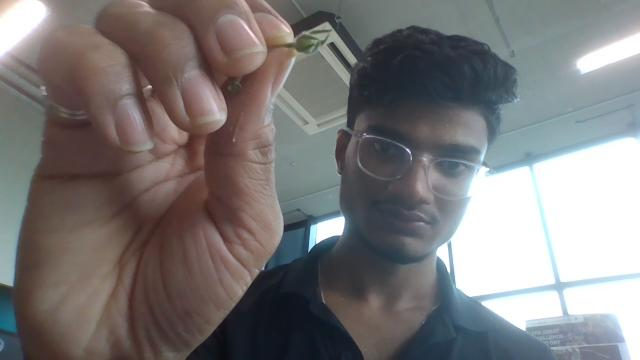Fruit Bud: (293, 33, 326, 54)
